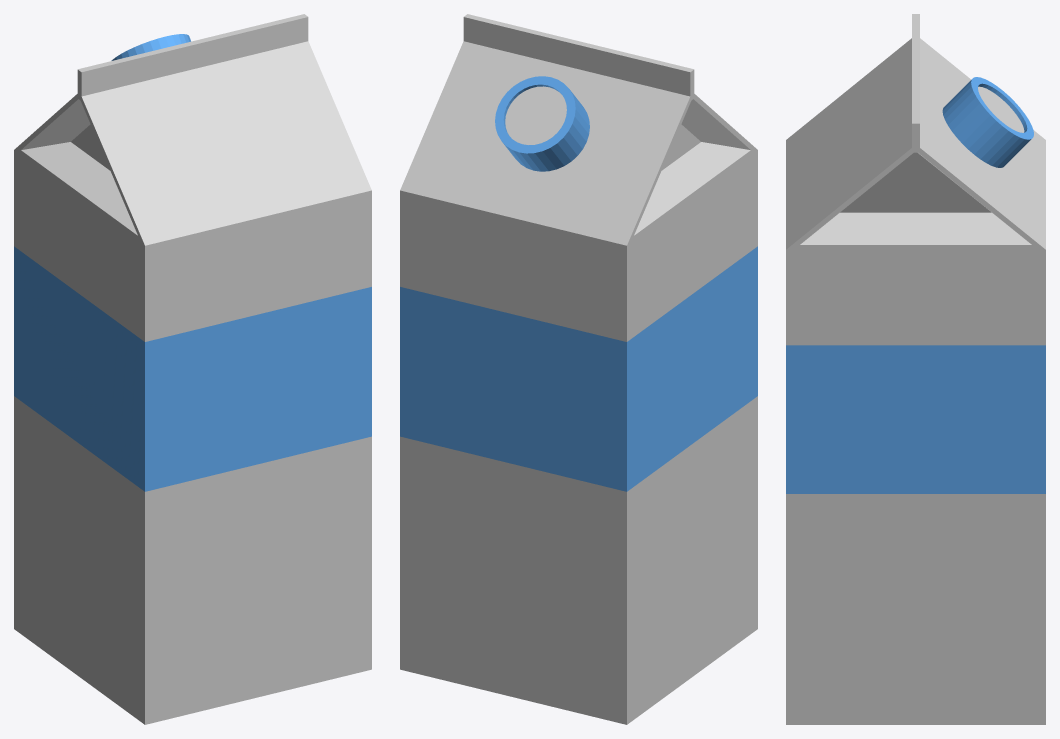
File: milk.fbx
3 renders of one model, left to right at view 1: azimuth 30°, elevation 25°; view 2: azimuth 150°, elevation 25°; view 3: azimuth 270°, elevation 25°, orthographic.
Visible parts, largest first — view 1: Carton; view 2: Carton; view 3: Carton.
Part boxes in pixels (<box>): Carton: <box>14,14,371,724</box>; Carton: <box>400,14,757,724</box>; Carton: <box>786,14,1045,724</box>.
Size of the model in its own units: 200 by 511 by 200.
